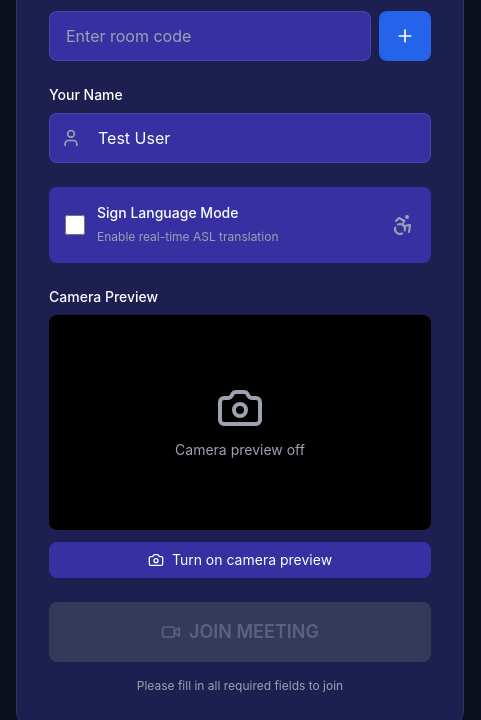
Preservation Property Tests - Non-Camera Functionality › PRESERVATION: Camera in use error handling
This screenshot has width=481, height=720.
(page scrolled)
What coordinates should you click on to do the following:
click the button "Turn on camera preview"
I would click on:
 (240, 560)
Its box is [49,542,431,578].
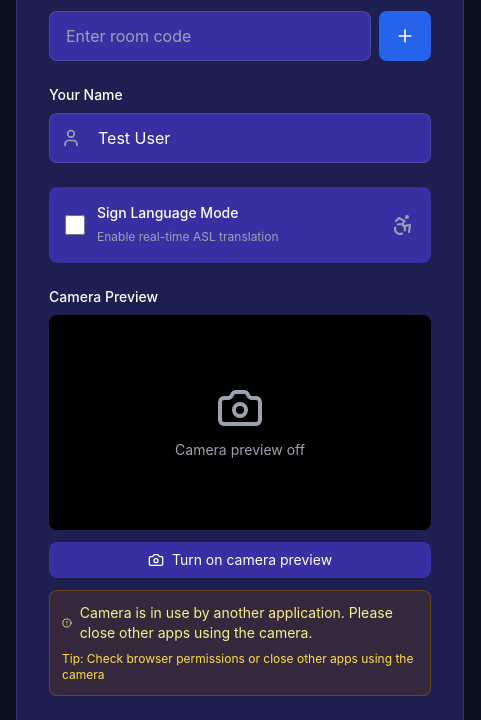
Expected: the text "please close other apps using the camera" is shown, [80,604,393,641]
